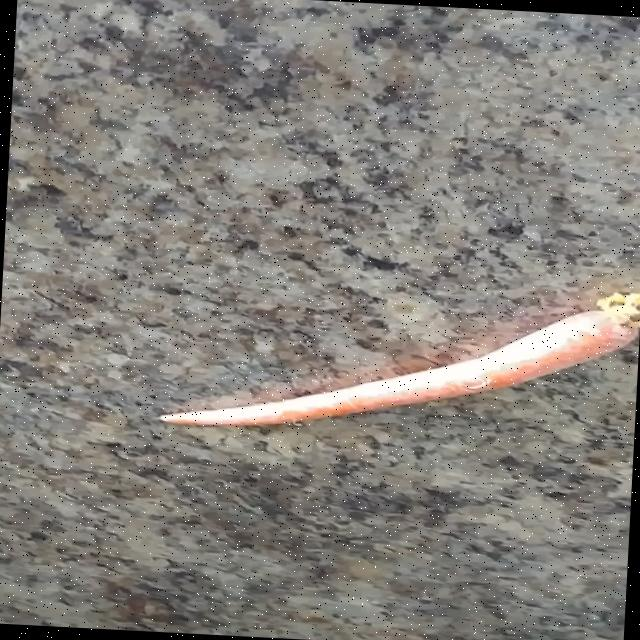carrot: (159, 292, 640, 425)
